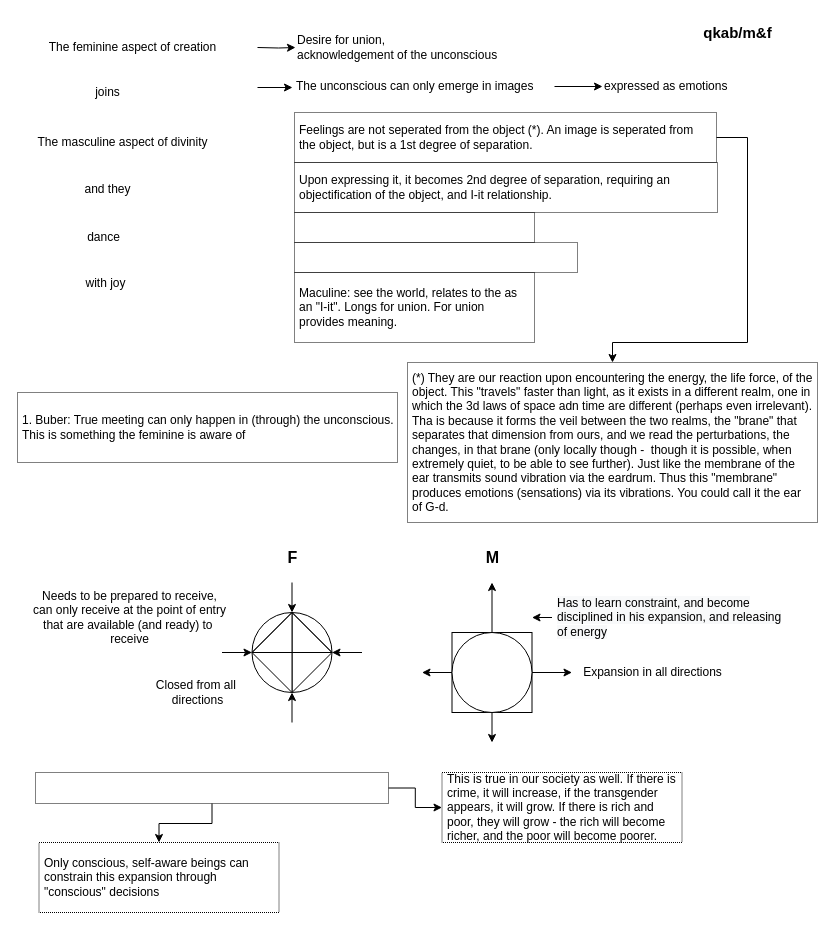
Some shapes in this 835 by 930 pixel diagram are drawn without their labels. The shapes that lost their labels are listed below. From the top down, each one's centre as x and y in pixels, then its label:
At (414,227): "To express it, requires a protocol, etc".
At (436,257): "Math: find symbolic ways of expressing thought.".
At (211,788): "Everything living expands, unless acted on/constrained by an external force.".
